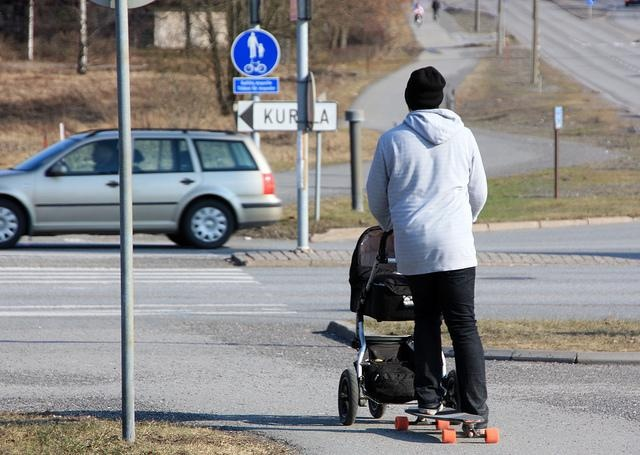person: (361, 66, 511, 430)
